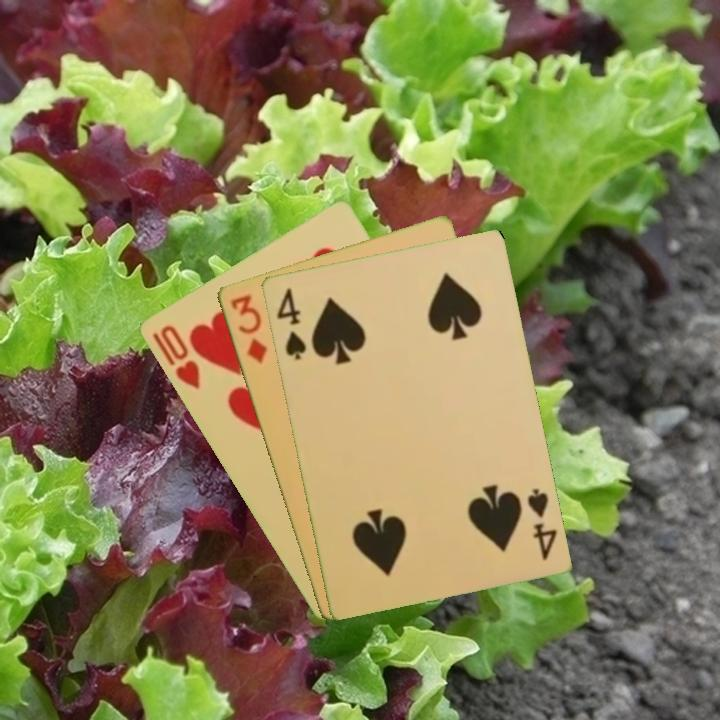10h: (156, 321, 203, 393)
3d: (227, 291, 270, 367)
4s: (273, 283, 309, 363), (523, 484, 559, 563)
